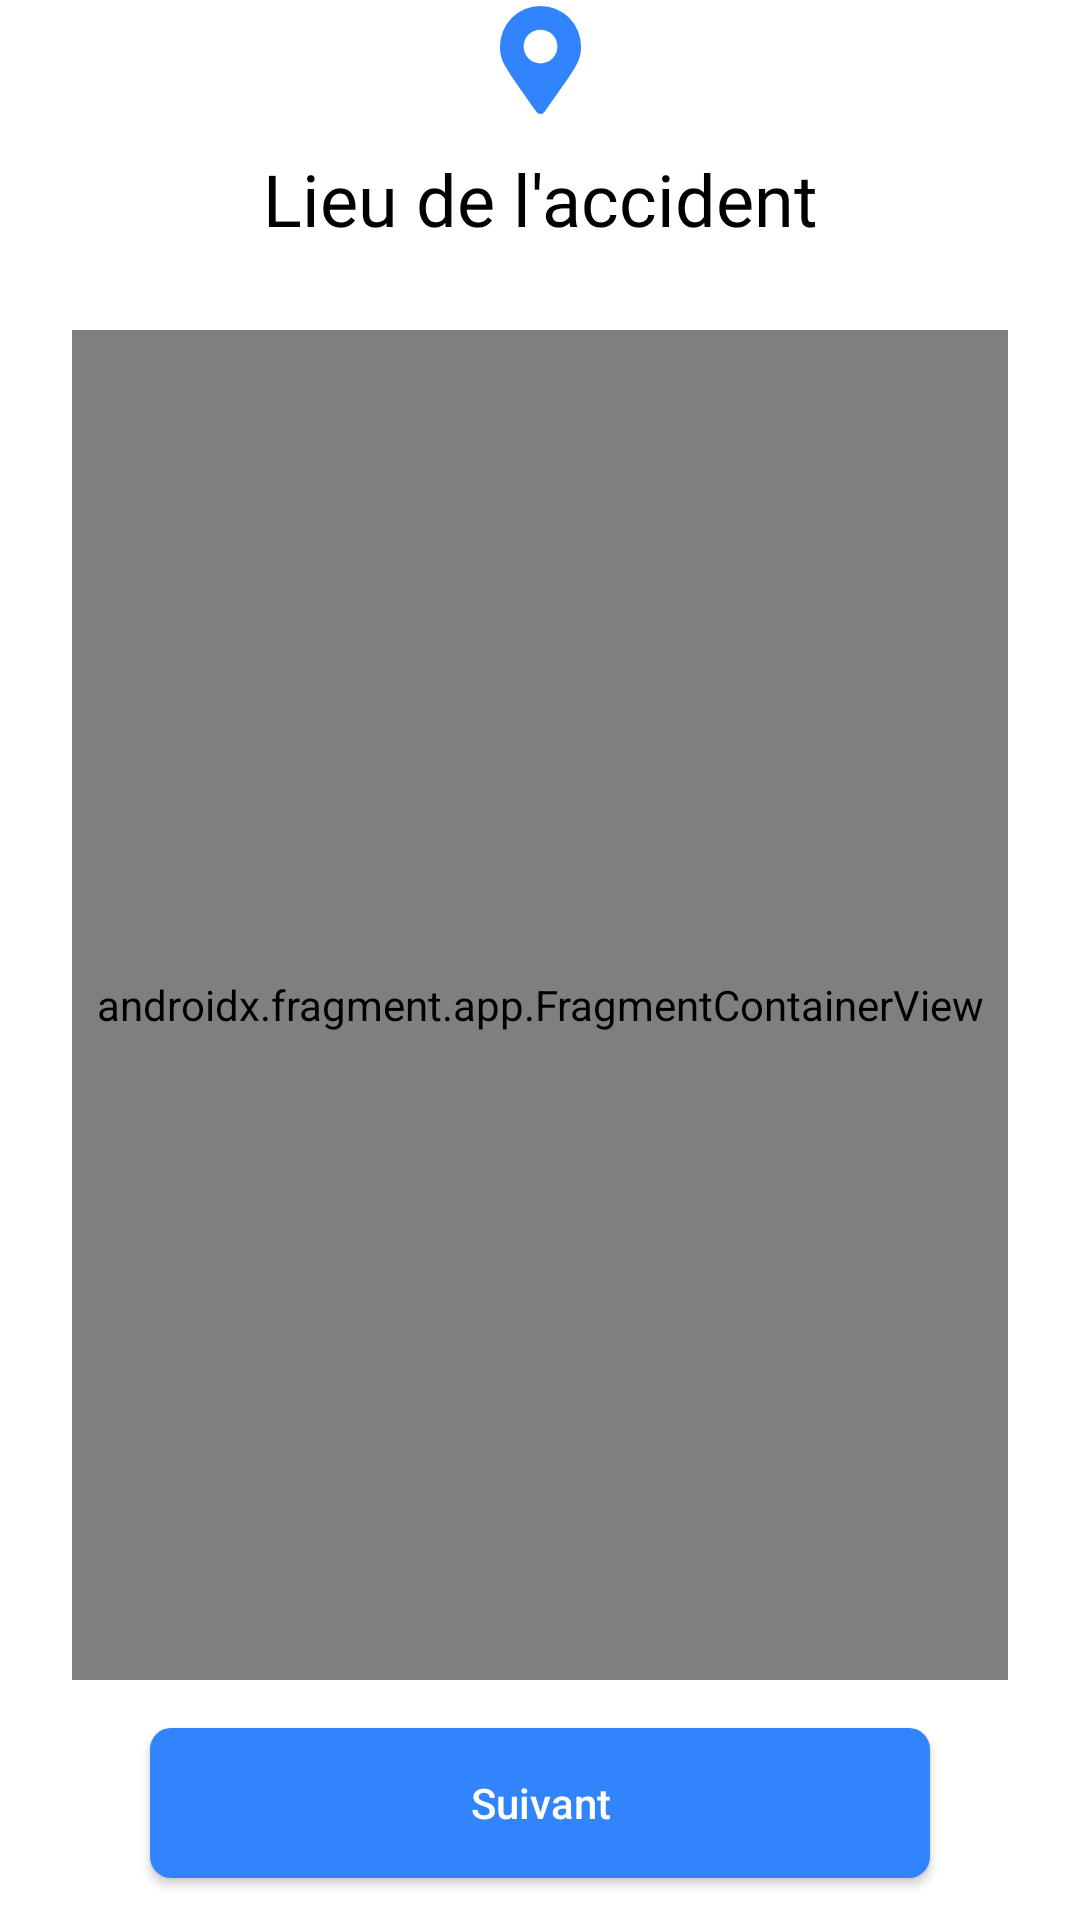

Named icons in this screenshot (1080*1920) and their bounding boxes, [left=x1, top=y1, right=x2, bottom=y2]:
awesome map marker: [left=500, top=6, right=581, bottom=114]
